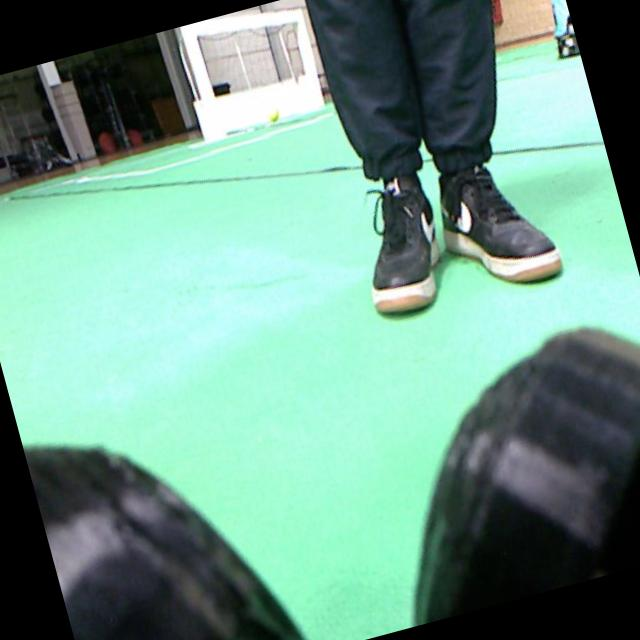ball: (267, 106, 278, 121)
goal: (180, 23, 225, 135), (290, 8, 325, 110)
